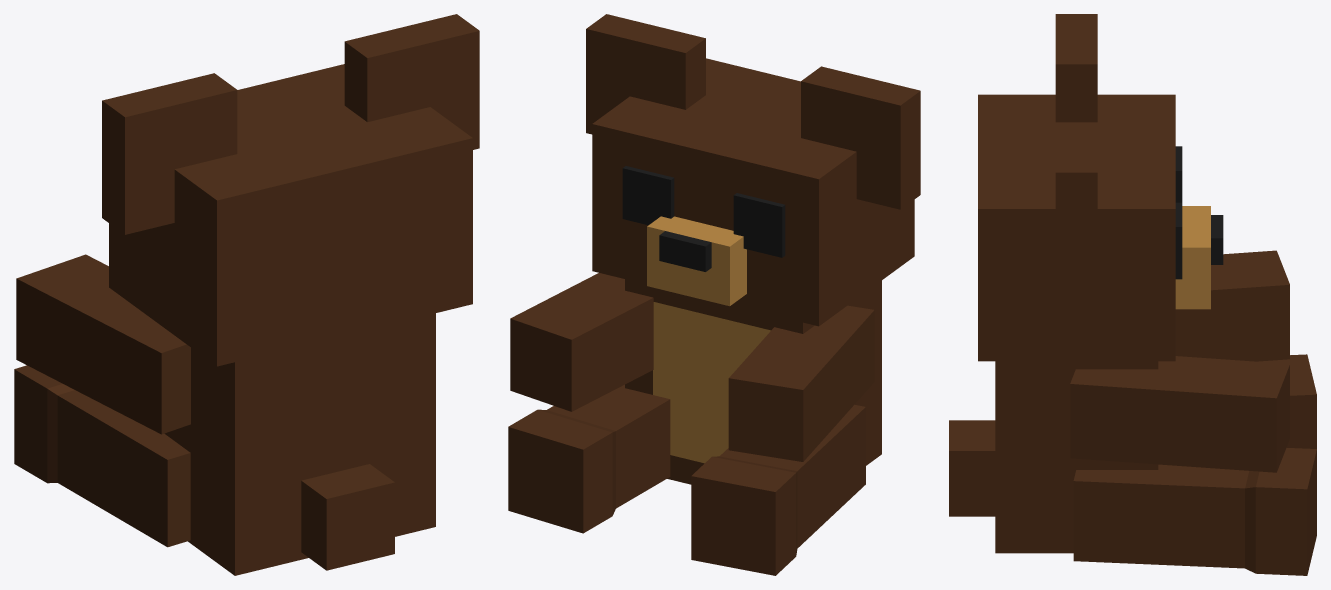
Rendered from Osito.fbx.
The picture shows the model from 3 angles, left to right: view 1: azimuth 30°, elevation 25°; view 2: azimuth 150°, elevation 25°; view 3: azimuth 270°, elevation 25°; orthographic projection. The views are drawn at different scales.
Visible parts, largest first — view 1: Cube, Cube.002, Cube.001, Cube.003; view 2: Cube, Cube.001, Cube.002; view 3: Cube, Cube.002, Cube.001, Cube.003.
Part boxes in pixels (<box>): Cube: <box>102,14,479,575</box>; Cube.002: <box>16,254,190,434</box>; Cube.001: <box>14,365,190,547</box>; Cube.003: <box>301,464,394,570</box>; Cube: <box>586,14,920,484</box>; Cube.001: <box>508,384,865,575</box>; Cube.002: <box>510,273,874,461</box>; Cube: <box>978,14,1223,553</box>; Cube.002: <box>1070,250,1289,472</box>; Cube.001: <box>1073,354,1316,575</box>; Cube.003: <box>949,420,995,516</box>.
Bounding box in the file's own units: 217 × 265 × 213.
